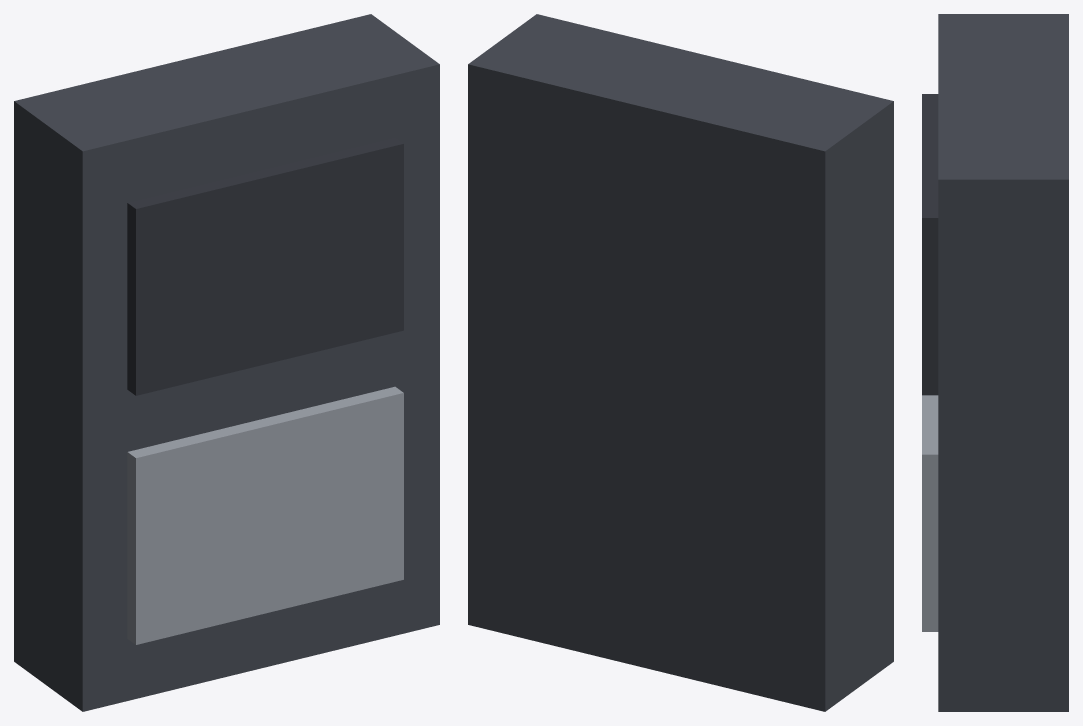
Rendered from prop_keypad.glb.
The picture shows the model from 3 angles, left to right: view 1: azimuth 30°, elevation 25°; view 2: azimuth 150°, elevation 25°; view 3: azimuth 270°, elevation 25°; orthographic projection. The views are drawn at different scales.
Parts seen in each view (by area): view 1: panel; view 2: panel; view 3: panel.
Part boxes in pixels (x1,y1,x2,y2): panel: [14, 14, 439, 711]; panel: [468, 14, 893, 711]; panel: [922, 14, 1068, 711].
Bounding box in the file's own units: 0.12 × 0.18 × 0.045.
Materials: 2 (1 with a texture image).
